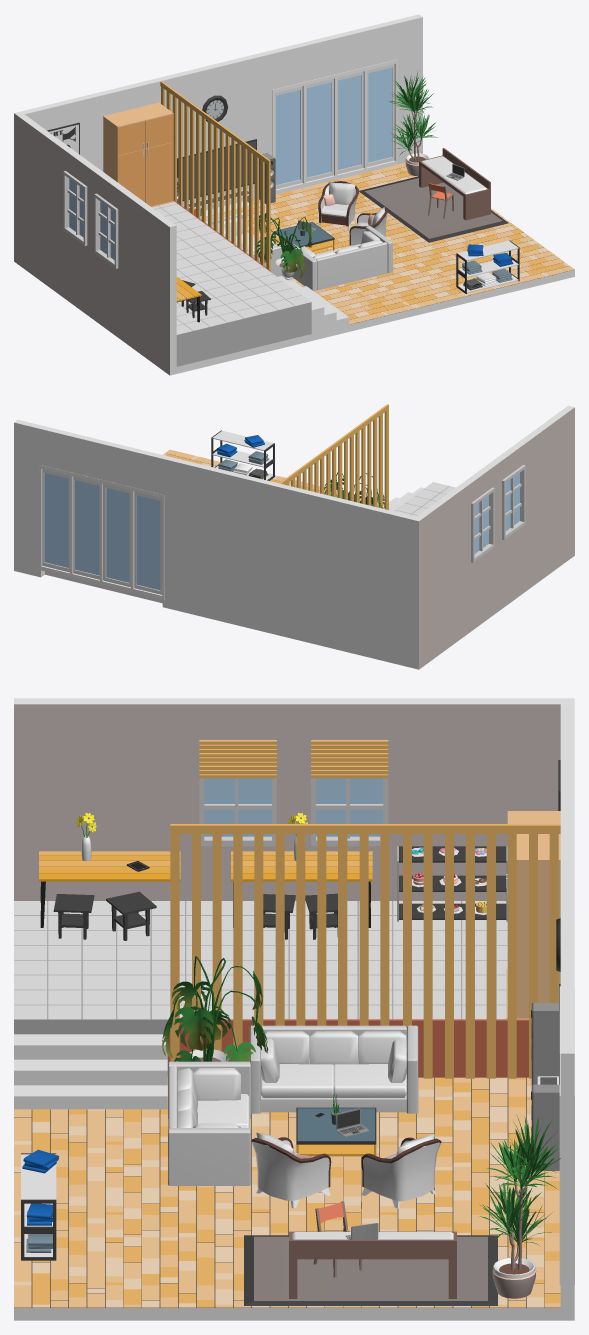
The model's file is room_9.glb.
The picture shows the model from 3 angles, top to bottom: view 1: azimuth 30°, elevation 25°; view 2: azimuth 150°, elevation 25°; view 3: azimuth 270°, elevation 25°; orthographic projection. The views are drawn at different scales.
Parts seen in each view (by area): view 1: window_011.002, Walls_006.050, Walls_166.003, Walls_166.004, floor_014.013, closet_024.001, Walls_188.015, Walls_006.058, Walls_011.013, carpet_001.002, floor_015.037, sofa_032.002 (+42 smaller); view 2: Walls_006.050, window_011.002, Walls_166.004, Walls_166.003, Walls_006.058, Walls_006.057, Walls_166.005, window_034.002, window_034.001, Walls_166.009, Walls_166.008, shelf_076.001 (+13 smaller); view 3: Walls_166.003, Walls_166.004, floor_014.013, floor_015.035, floor_015.037, sofa_032.001, floor_014.014, carpet_001.002, Walls_011.013, floor_015.038, Stairs_053.003, sofa_032.002 (+53 smaller).
Part boxes in pixels (left/top/right/bottom): window_011.002: left=272, top=59, right=397, bottom=194; Walls_006.050: left=21, top=50, right=274, bottom=210; Walls_166.003: left=117, top=187, right=176, bottom=375; Walls_166.004: left=14, top=111, right=72, bottom=299; floor_014.013: left=176, top=246, right=310, bottom=334; closet_024.001: left=103, top=102, right=174, bottom=207; Walls_188.015: left=155, top=204, right=311, bottom=366; Walls_006.058: left=271, top=21, right=395, bottom=89; Walls_011.013: left=176, top=167, right=574, bottom=373; carpet_001.002: left=359, top=176, right=508, bottom=242; floor_015.037: left=372, top=234, right=494, bottom=308; sofa_032.002: left=292, top=226, right=392, bottom=291; Walls_006.050: left=162, top=456, right=415, bottom=667; window_011.002: left=39, top=465, right=164, bottom=600; Walls_166.004: left=412, top=481, right=471, bottom=669; Walls_166.003: left=516, top=405, right=574, bottom=593; Walls_006.058: left=41, top=426, right=165, bottom=494; Walls_006.057: left=14, top=419, right=44, bottom=577; Walls_166.005: left=485, top=458, right=502, bottom=616; window_034.002: left=471, top=487, right=494, bottom=562; window_034.001: left=502, top=465, right=525, bottom=539; Walls_166.009: left=471, top=550, right=491, bottom=630; Walls_166.008: left=503, top=527, right=522, bottom=607; shelf_076.001: left=211, top=430, right=274, bottom=480; Walls_166.003: left=14, top=698, right=203, bottom=901; Walls_166.004: left=385, top=698, right=574, bottom=901; floor_014.013: left=14, top=901, right=288, bottom=1019; floor_015.035: left=14, top=1237, right=287, bottom=1307; floor_015.037: left=14, top=1167, right=287, bottom=1237; sofa_032.001: left=249, top=1025, right=418, bottom=1113; floor_014.014: left=290, top=901, right=528, bottom=1019; carpet_001.002: left=244, top=1235, right=497, bottom=1305; Walls_011.013: left=14, top=1078, right=560, bottom=1320; floor_015.038: left=288, top=1167, right=559, bottom=1237; Stairs_053.003: left=14, top=1034, right=167, bottom=1109; sofa_032.002: left=168, top=1061, right=250, bottom=1185.
Size of the model in its own units: 12.07 by 4.2 by 8.01.
Materials: 1 (1 with a texture image).
